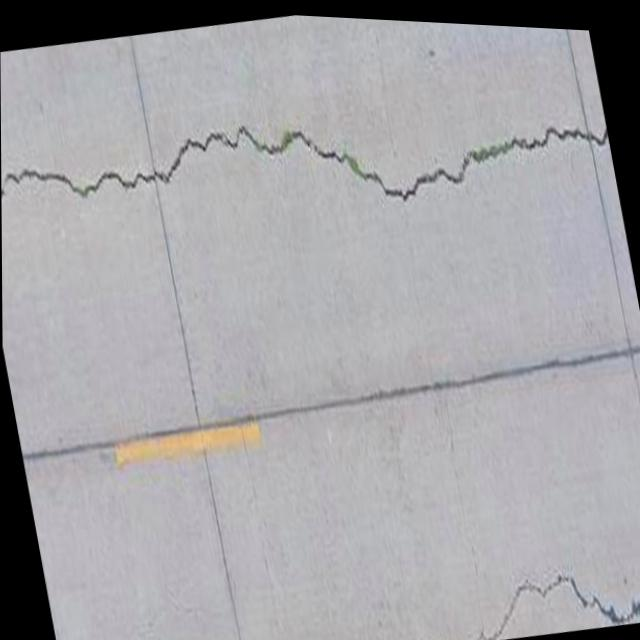Crack: (0, 17, 622, 317)
